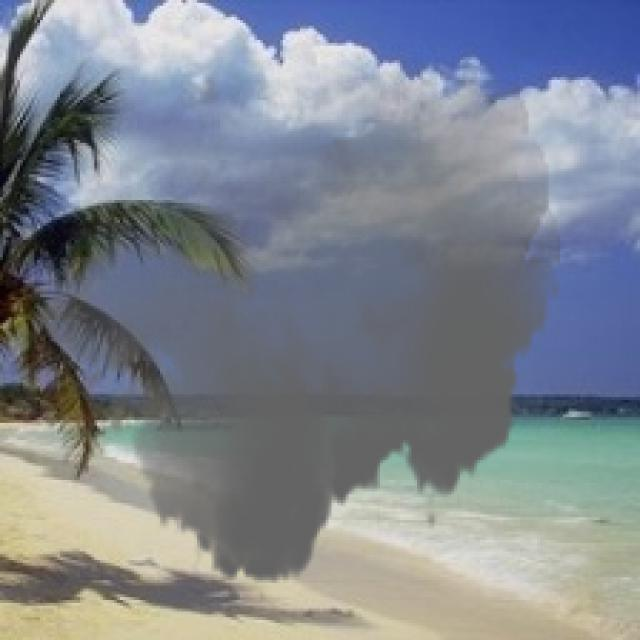smoke: (34, 51, 560, 603)
